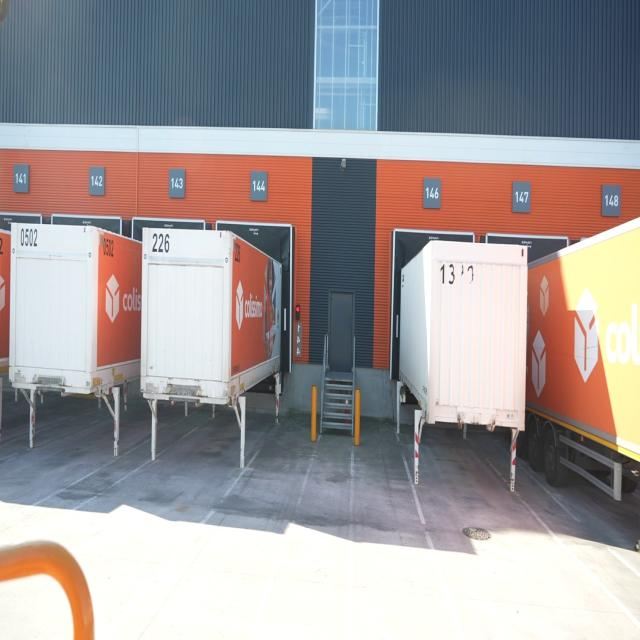Code: (438, 256, 479, 292), (16, 222, 42, 252), (148, 230, 174, 258), (102, 234, 117, 262)
